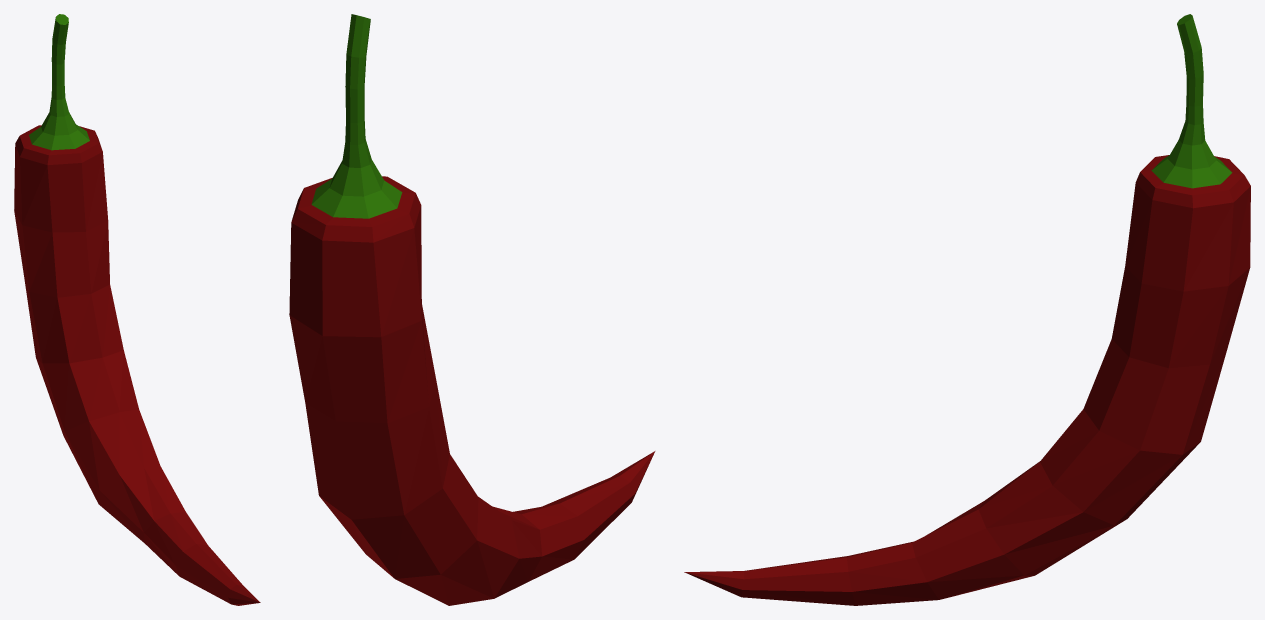
Rendered from chilli pepper.obj.
3 views of the same model, side by side, from view 1: azimuth 30°, elevation 25°; view 2: azimuth 150°, elevation 25°; view 3: azimuth 270°, elevation 25° (orthographic). The views are drawn at different scales.
Bounding box in the file's own units: 0.381 × 2.08 × 1.81.
